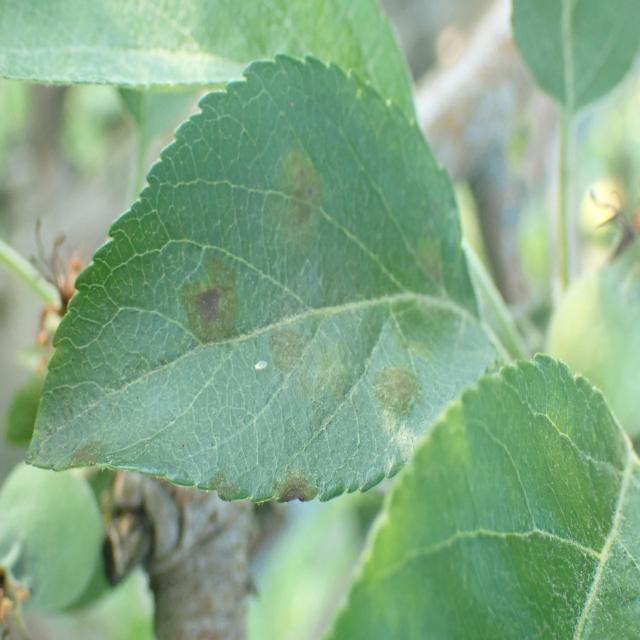scab: (45, 114, 462, 513)
